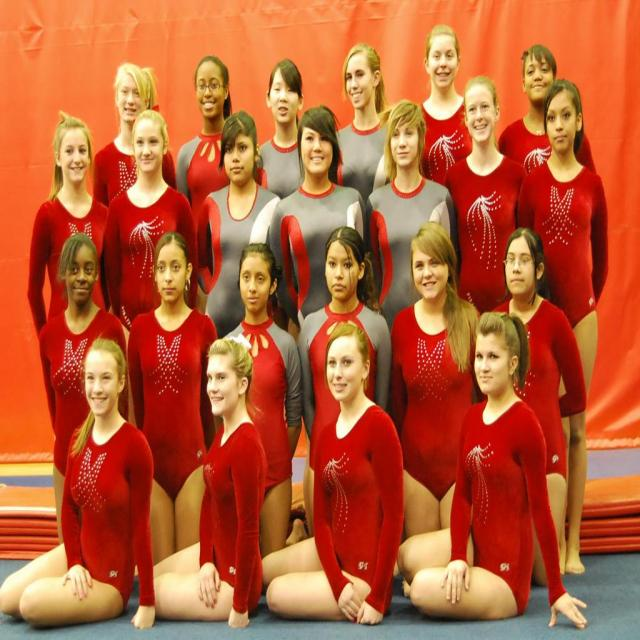nomask: (326, 346, 363, 400), (86, 356, 118, 415), (475, 338, 509, 392), (206, 361, 239, 415), (412, 250, 448, 298), (326, 248, 358, 299), (546, 94, 575, 150), (65, 250, 95, 302), (156, 249, 186, 301), (505, 243, 536, 293), (240, 260, 270, 311), (466, 90, 496, 140), (222, 133, 253, 180), (302, 124, 332, 172), (343, 60, 373, 107), (196, 66, 224, 116), (134, 123, 162, 171), (428, 43, 458, 87), (60, 134, 88, 181), (270, 74, 298, 120), (524, 58, 554, 99), (391, 119, 418, 164), (118, 78, 143, 120)
